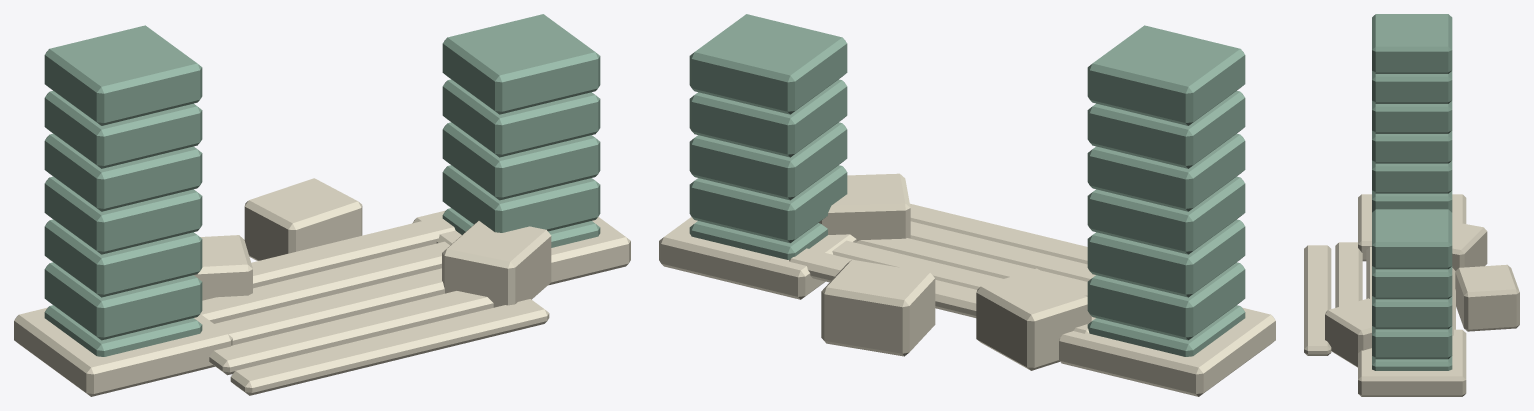
File: hd2d-ruins.glb
The picture shows the model from 3 angles, left to right: view 1: azimuth 30°, elevation 25°; view 2: azimuth 150°, elevation 25°; view 3: azimuth 270°, elevation 25°; orthographic projection. The views are drawn at different scales.
Parts seen in each view (by area): view 1: RuinedPier.011, RuinedPier.006, BrokenStep, RuinedBase, FallenStone.002, BrokenStep.001, FallenStone.001, RuinedPier.004, RuinedPier.003, RuinedPier.005, RuinedPier.010, RuinedPier.002 (+10 smaller); view 2: RuinedPier.011, RuinedPier.006, FallenStone.001, RuinedBase, FallenStone, RuinedPier.004, RuinedPier.003, RuinedPier.005, RuinedPier.010, RuinedPier.002, RuinedPier.009, RuinedPier.001 (+10 smaller); view 3: RuinedPier.011, RuinedPier.006, FallenStone.001, RuinedBase.001, BrokenStep, RuinedPier.010, RuinedPier.008, RuinedPier.009, RuinedPier.002, RuinedPier.003, RuinedPier.004, RuinedPier.005 (+8 smaller).
Boxes of the visible parts, x1=… form: RuinedPier.011: x1=442, y1=14, x2=600, y2=114; RuinedPier.006: x1=44, y1=25, x2=202, y2=125; BrokenStep: x1=230, y1=299, x2=549, y2=395; RuinedBase: x1=14, y1=307, x2=232, y2=396; FallenStone.002: x1=442, y1=221, x2=551, y2=307; BrokenStep.001: x1=209, y1=291, x2=493, y2=375; FallenStone.001: x1=244, y1=178, x2=362, y2=260; RuinedPier.004: x1=44, y1=133, x2=202, y2=211; RuinedPier.003: x1=44, y1=176, x2=202, y2=254; RuinedPier.005: x1=44, y1=91, x2=202, y2=168; RuinedPier.010: x1=442, y1=79, x2=600, y2=157; RuinedPier.002: x1=44, y1=219, x2=202, y2=297; RuinedPier.011: x1=689, y1=14, x2=847, y2=114; RuinedPier.006: x1=1087, y1=25, x2=1245, y2=125; FallenStone.001: x1=821, y1=259, x2=935, y2=356; RuinedBase: x1=1059, y1=307, x2=1275, y2=396; FallenStone: x1=976, y1=268, x2=1091, y2=370; RuinedPier.004: x1=1087, y1=133, x2=1245, y2=211; RuinedPier.003: x1=1087, y1=176, x2=1245, y2=254; RuinedPier.005: x1=1087, y1=91, x2=1245, y2=168; RuinedPier.010: x1=689, y1=79, x2=847, y2=157; RuinedPier.002: x1=1087, y1=219, x2=1245, y2=297; RuinedPier.009: x1=689, y1=122, x2=847, y2=200; RuinedPier.001: x1=1087, y1=262, x2=1245, y2=340; RuinedPier.011: x1=1372, y1=209, x2=1452, y2=269; RuinedPier.006: x1=1372, y1=14, x2=1452, y2=73; FallenStone.001: x1=1455, y1=264, x2=1519, y2=331; RuinedBase.001: x1=1358, y1=329, x2=1466, y2=396; BrokenStep: x1=1304, y1=245, x2=1331, y2=355; RuinedPier.010: x1=1372, y1=266, x2=1452, y2=299; RuinedPier.008: x1=1372, y1=326, x2=1452, y2=359; RuinedPier.009: x1=1372, y1=296, x2=1452, y2=329; RuinedPier.002: x1=1372, y1=160, x2=1452, y2=193; RuinedPier.003: x1=1372, y1=131, x2=1452, y2=163; RuinedPier.004: x1=1372, y1=101, x2=1452, y2=133; RuinedPier.005: x1=1372, y1=71, x2=1452, y2=103.
Bounding box in the file's own units: 4.65 × 2.43 × 2.29.
